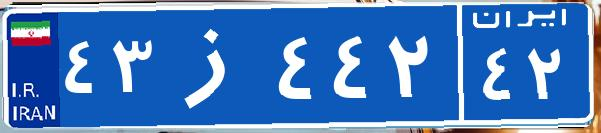2: (385, 28, 445, 110), (525, 38, 570, 115)
3: (110, 28, 158, 105)
4: (273, 28, 330, 110), (330, 28, 385, 110), (57, 26, 110, 107), (475, 38, 525, 113)
ز: (158, 15, 273, 115)
